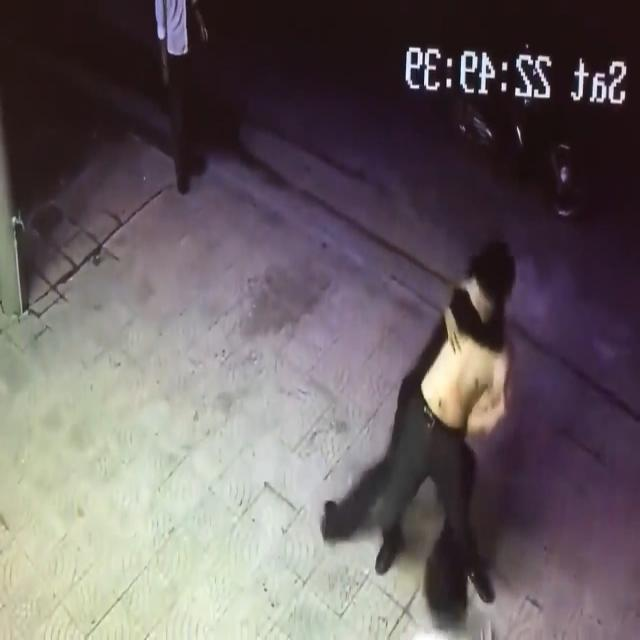non-violence: (156, 0, 208, 196)
violence: (322, 232, 514, 600)
